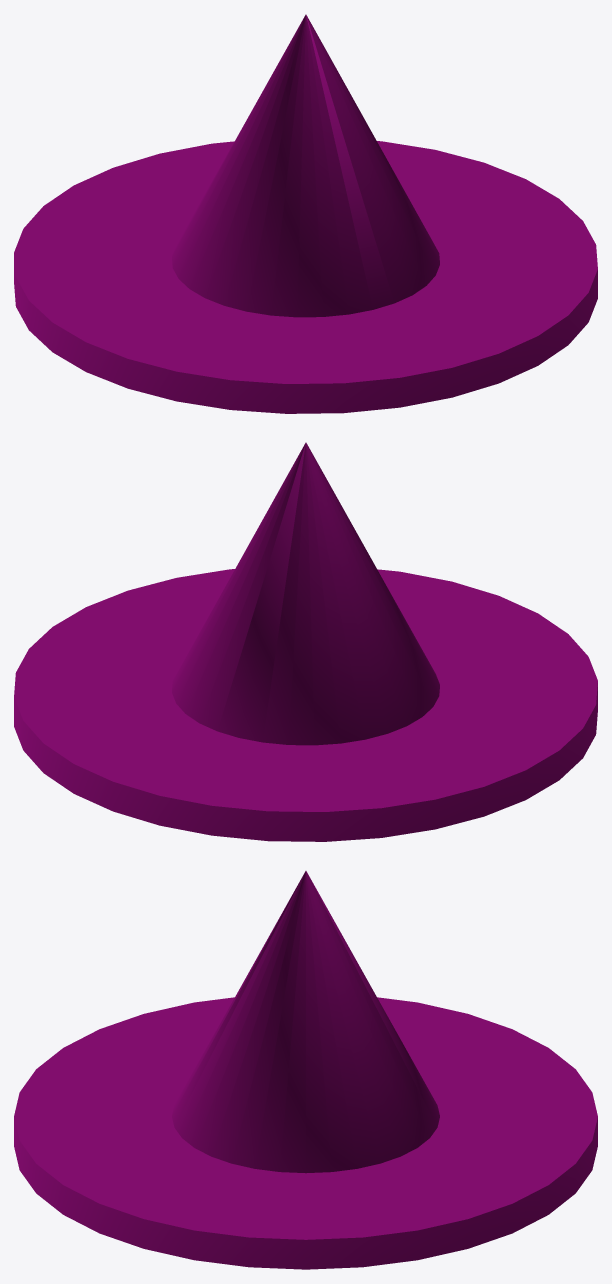
Rendered from cappello_viola.glb.
The picture shows the model from 3 angles, top to bottom: view 1: azimuth 30°, elevation 25°; view 2: azimuth 150°, elevation 25°; view 3: azimuth 270°, elevation 25°; orthographic projection.
Visible parts, largest first — view 1: mastro_cappello.001; view 2: mastro_cappello.001; view 3: mastro_cappello.001.
Boxes of the visible parts, x1,y1,x2,y2 form: mastro_cappello.001: (14,14,597,413); mastro_cappello.001: (14,442,597,841); mastro_cappello.001: (14,871,597,1269).
Size of the model in its own units: 0.3014 by 0.1571 by 0.3014.
